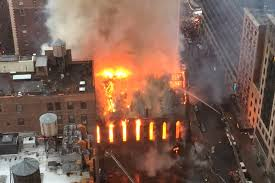fire: (89, 57, 197, 151)
